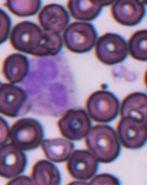N: (22, 54, 76, 116)
